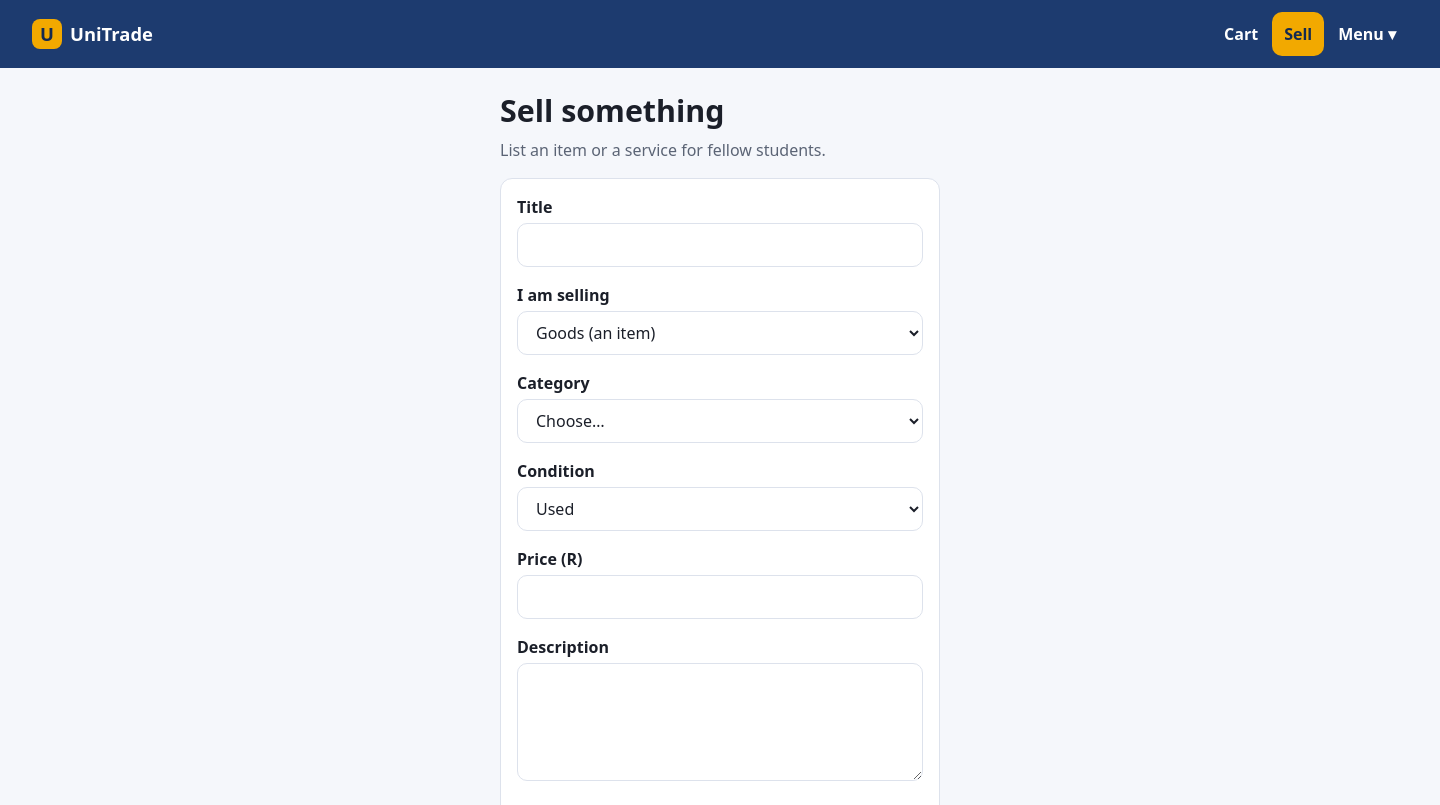
Test: FR2 - listing screens › fr2_05 a server validation message is shown under the field it belongs to
Type "Lamp" into the field labelled "Title" at coordinates (720, 245), box [517,223,923,267]
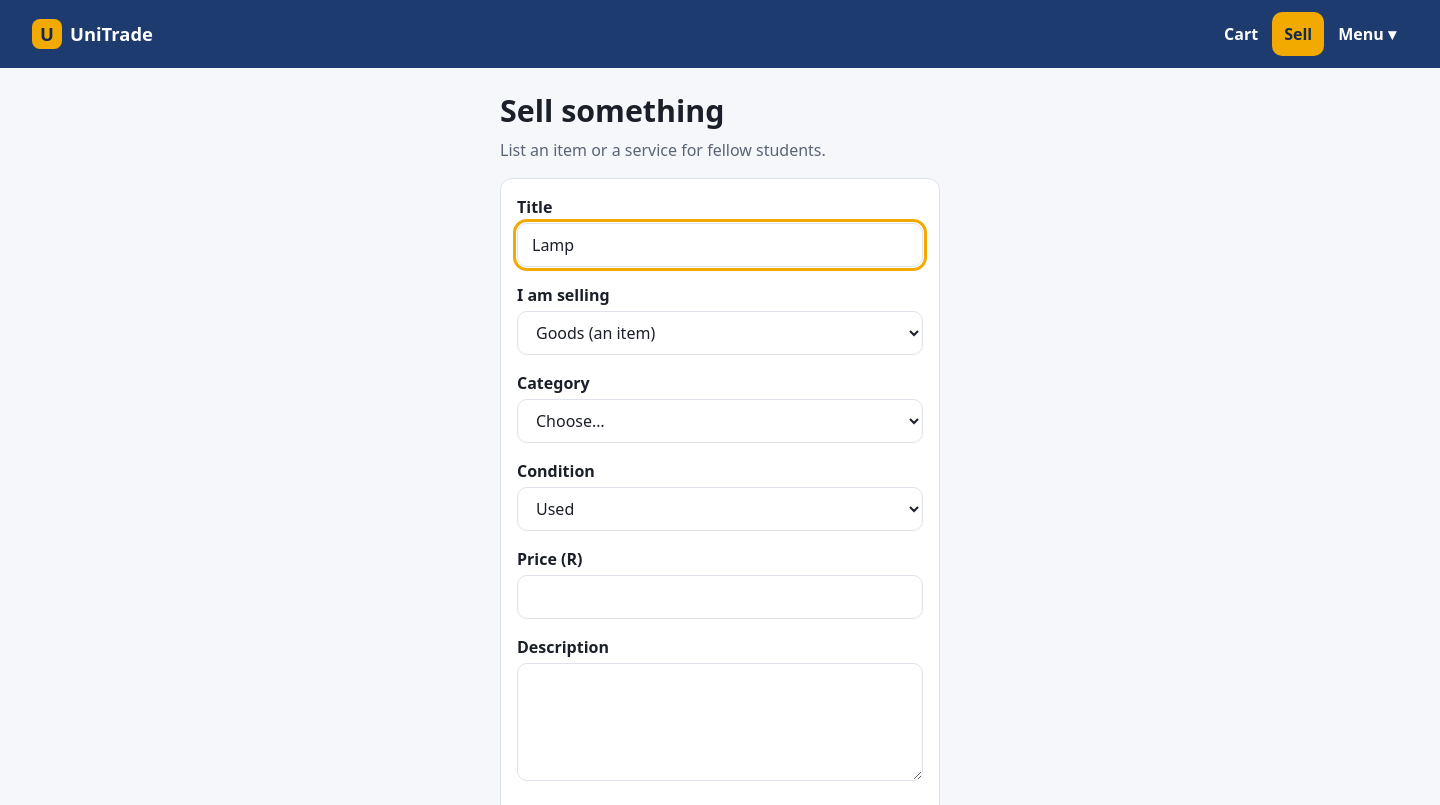
Select "Electronics" in the dropdown labelled "Category" at coordinates (720, 421), box [517,399,923,443]
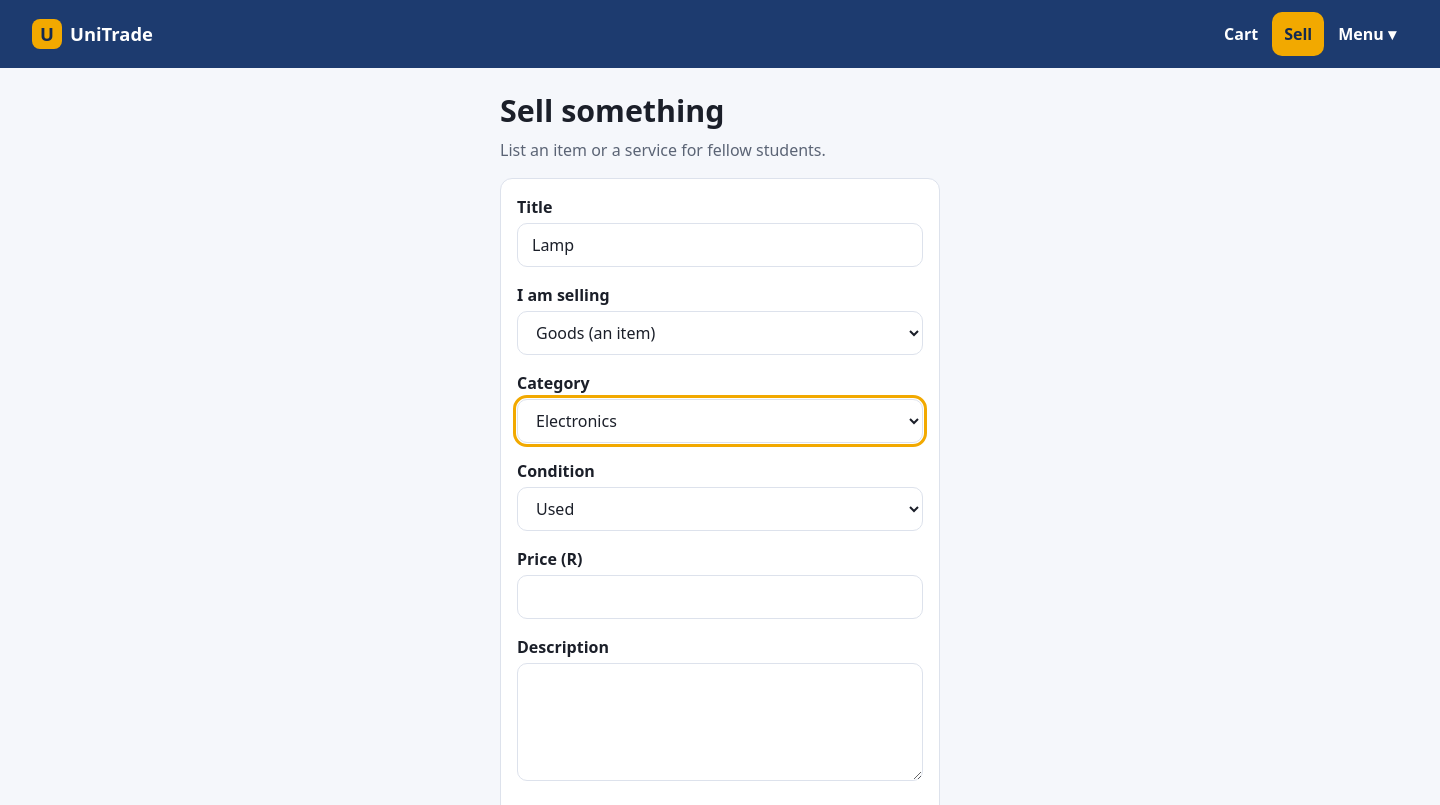
Type "50" into the number field labelled "Price (R)" at coordinates (720, 597), box [517,575,923,619]
(page scrolled)
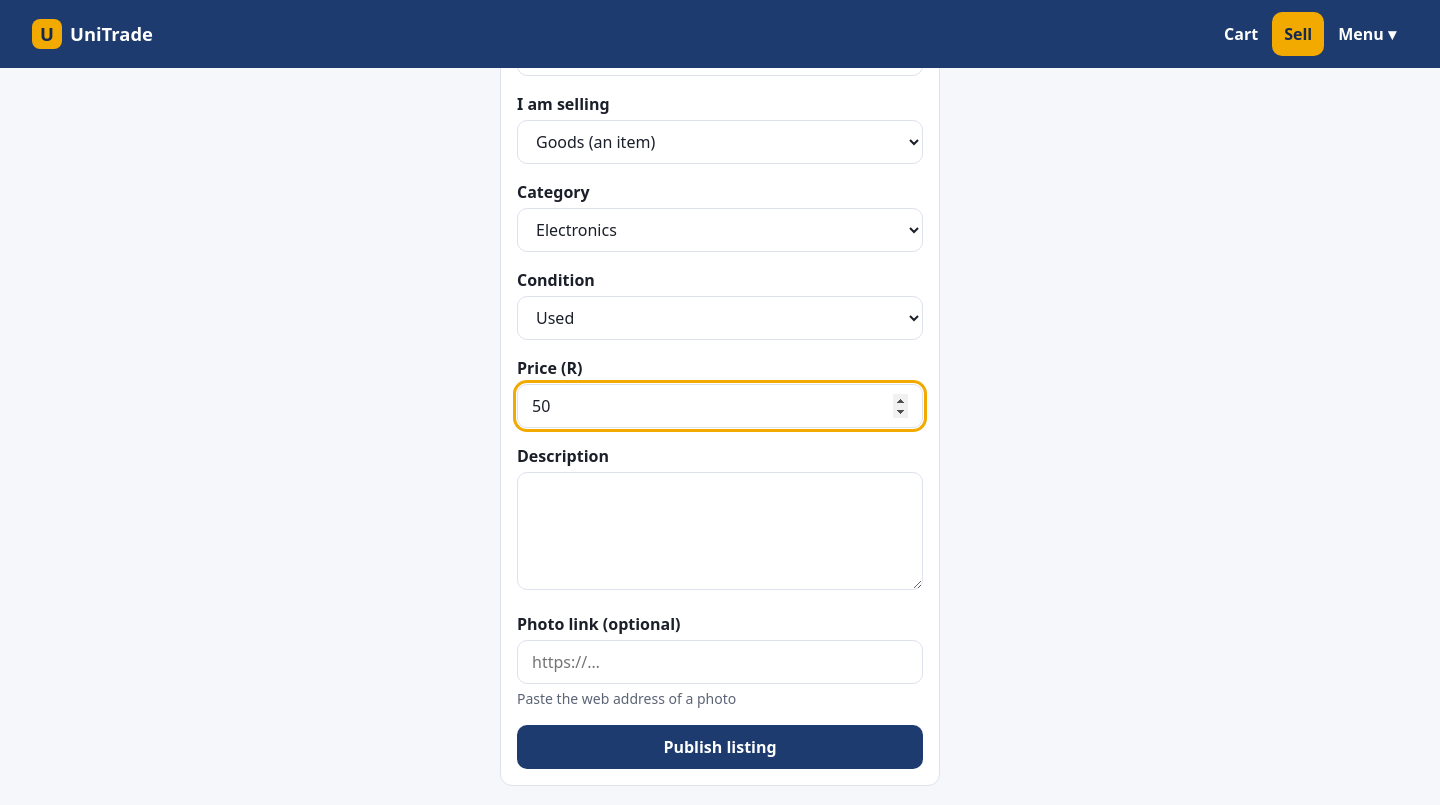
Click the button "Publish listing" at coordinates (720, 747), box [517,725,923,769]
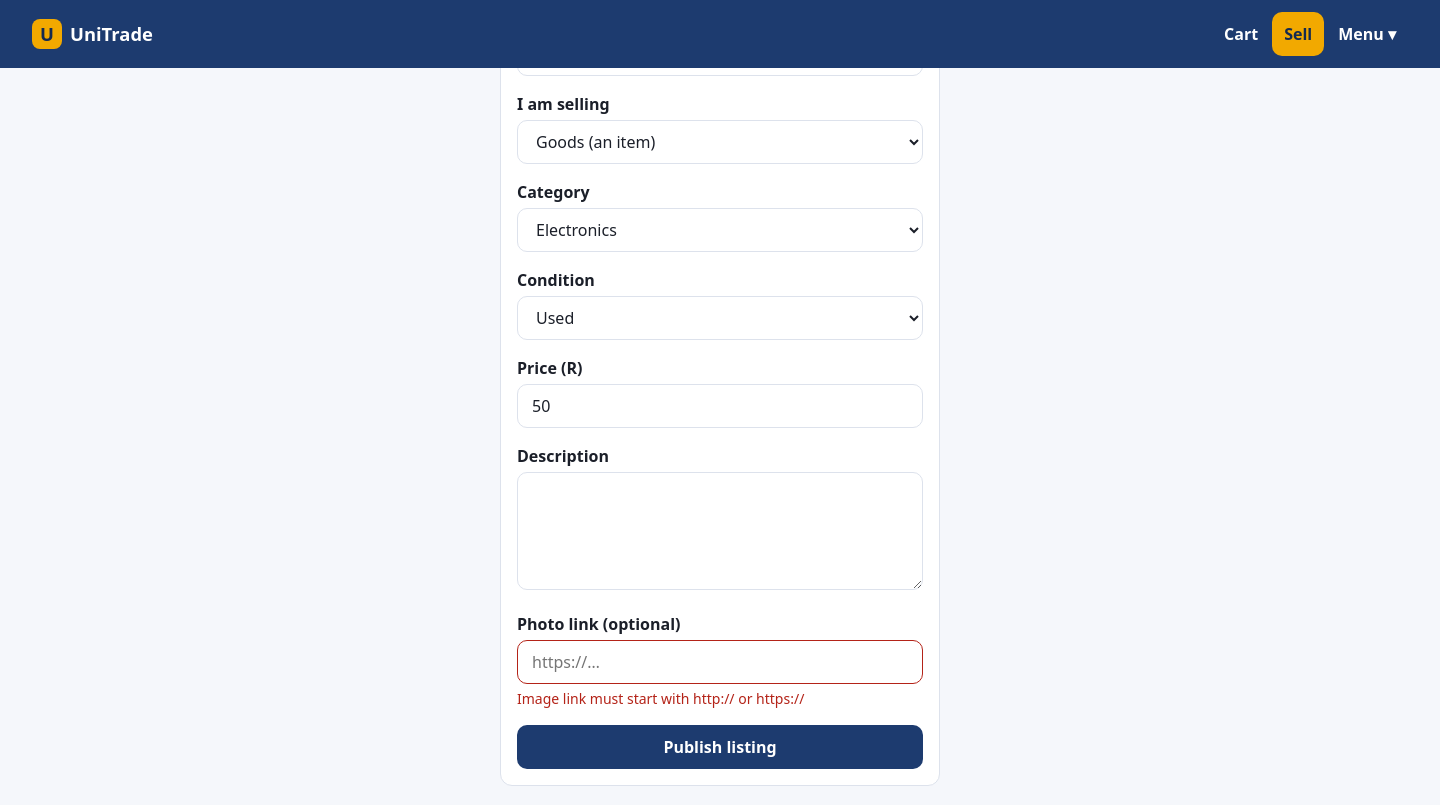
Expected: the text "Image link must start with http:// or https://" is shown, [517,689,804,708]
